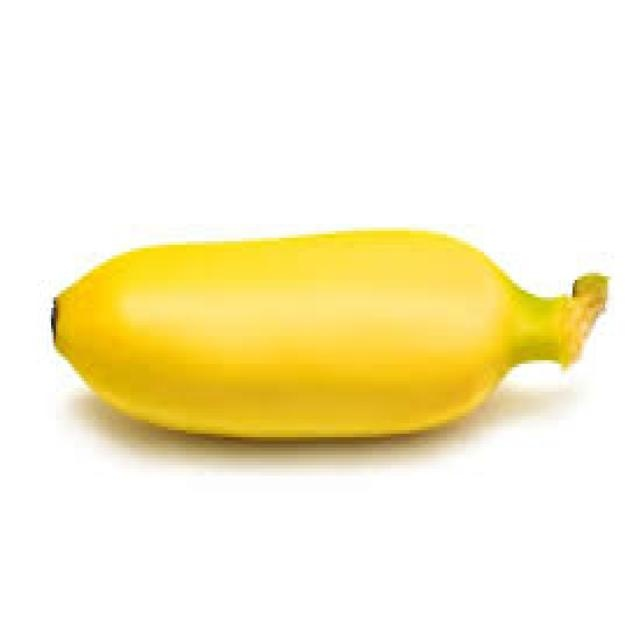agrume: (49, 223, 610, 442)
